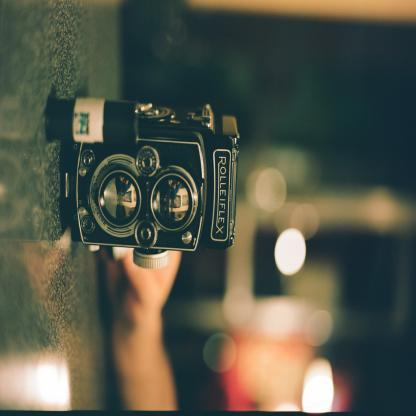Camera: (42, 95, 262, 278)
